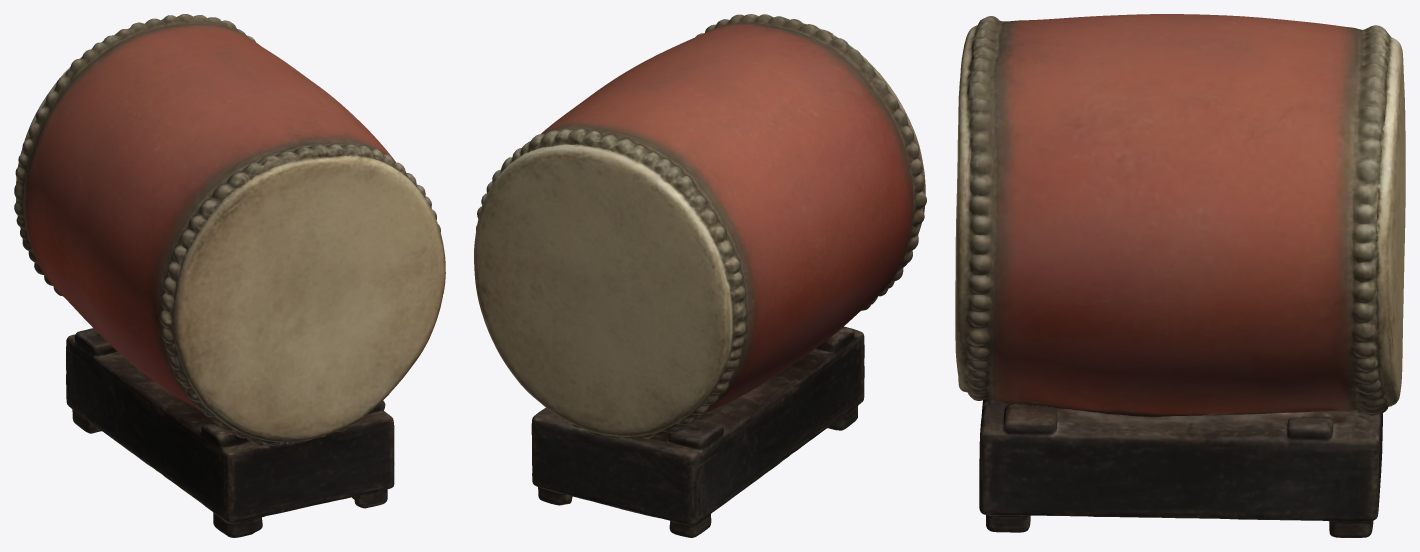
The model's file is drum-proto.glb.
3 views of the same model, side by side, from view 1: azimuth 30°, elevation 25°; view 2: azimuth 150°, elevation 25°; view 3: azimuth 270°, elevation 25° (orthographic). The views are drawn at different scales.
Bounding box in the file's own units: 0.7878 × 1 × 0.8924.
1 material, 1 textured.
